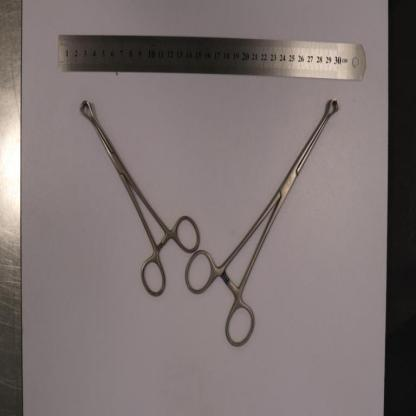8 Babcock Tissue Forceps: (186, 98, 338, 346)
Babcock Tissue Forceps: (82, 100, 198, 296)
